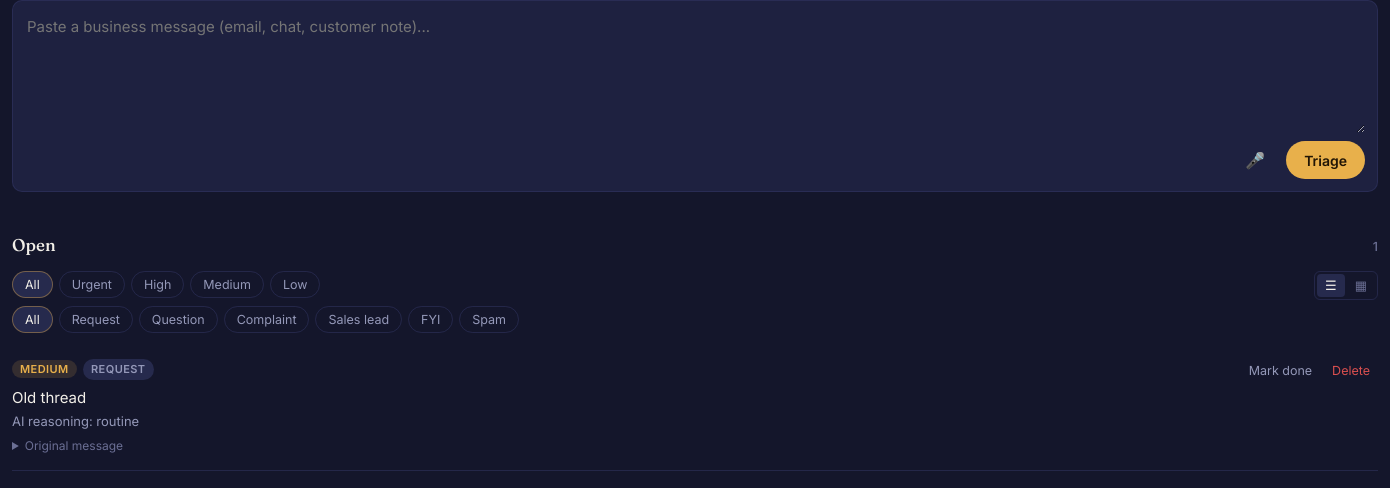
Test: BusinessTab › deletes a message
Expected: the text "Old thread" is shown, [12,388,86,407]
Click the button "Delete": point(1351, 370) [1324,359,1378,382]
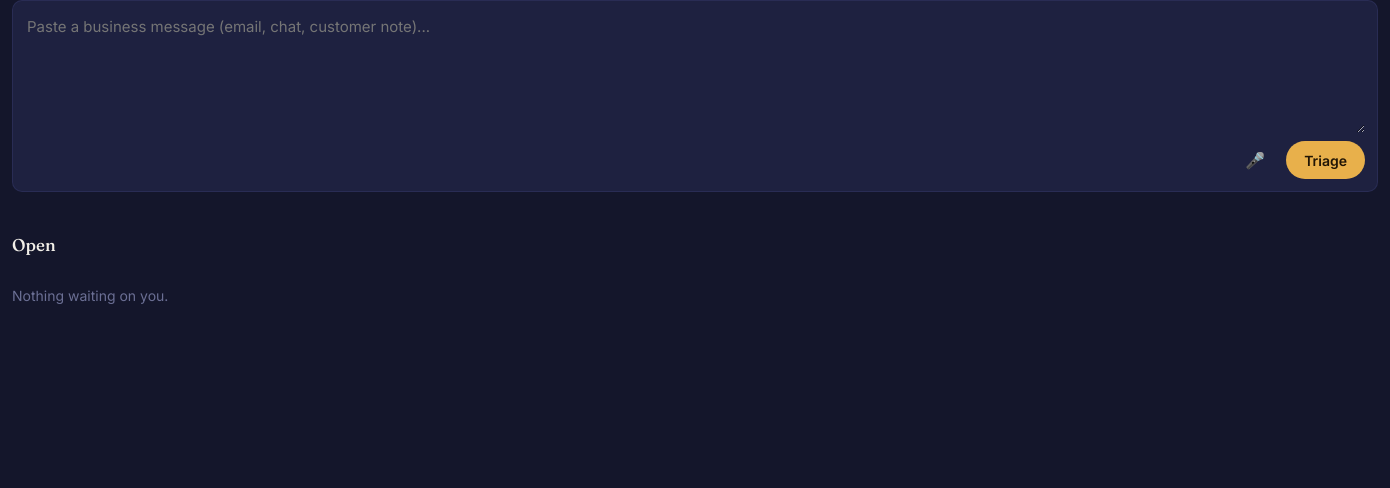
Now the text "Old thread" is gone
